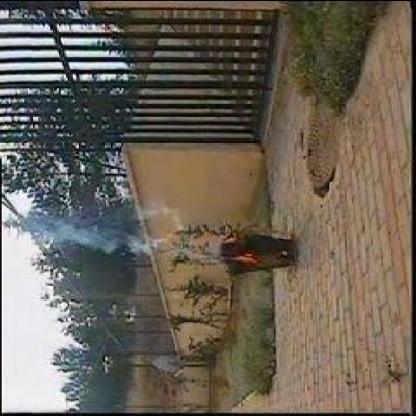-: (28, 214, 172, 257)
foggia-v2-map80-epoch100 - v1 4323: (230, 249, 258, 267)
